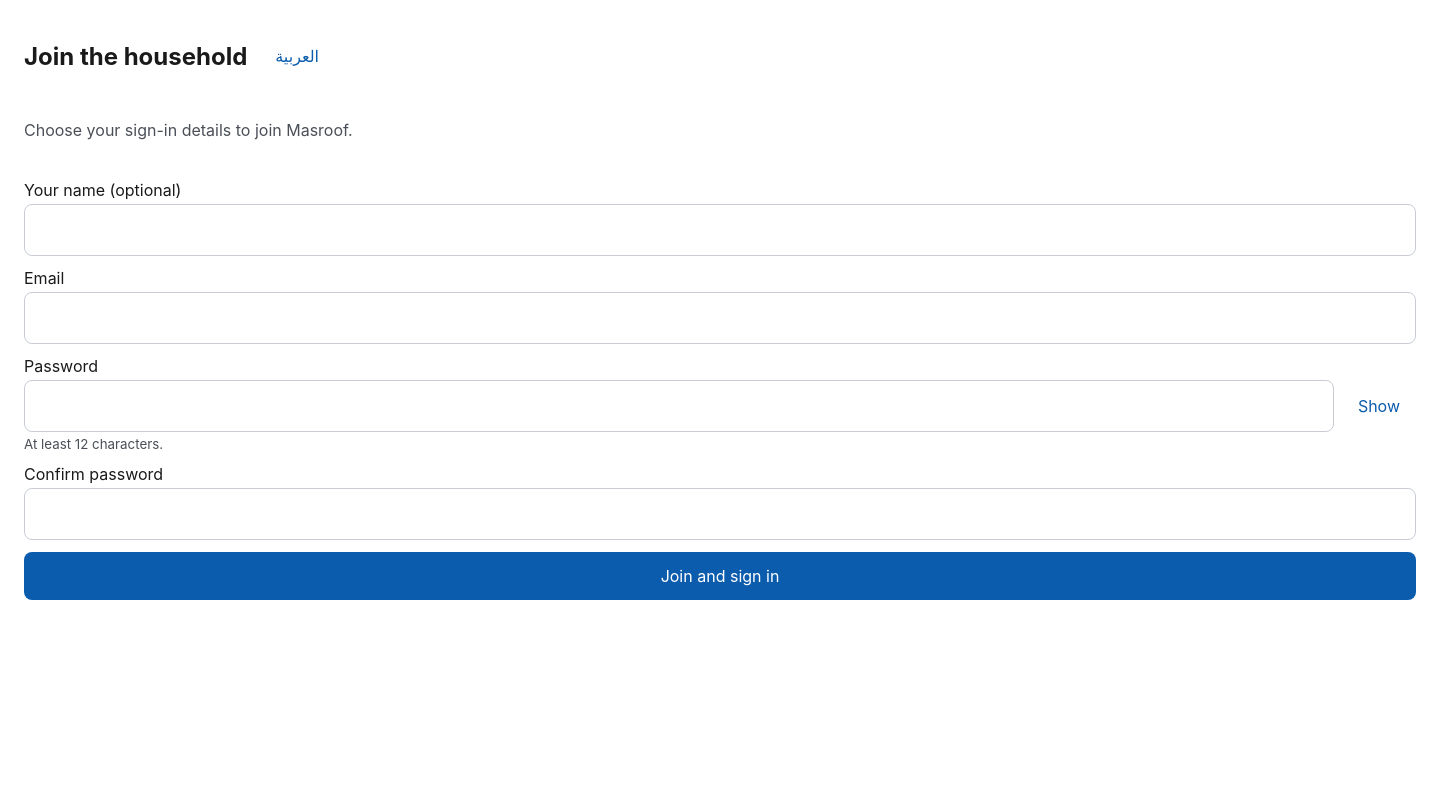
Test case: REQ-SEC-061 Accept invite page › REQ-SEC-061 a short or mismatched password never reaches the server
Type "mai@example.com" into the field labelled "Email". click: (720, 318)
box: [24,292,1416,344]
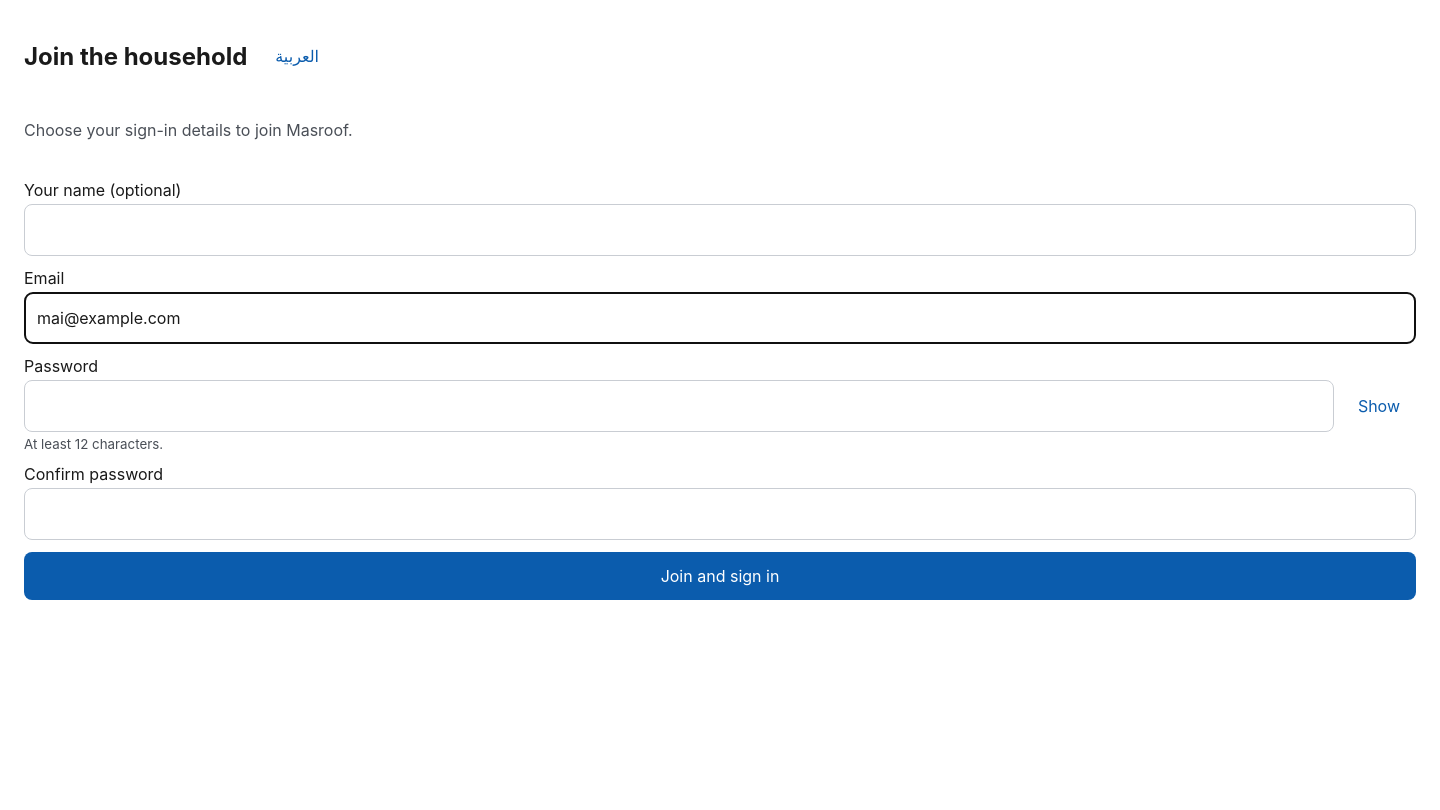
Type "short" into the password field labelled "Password". click: (679, 406)
box: [24,380,1334,432]
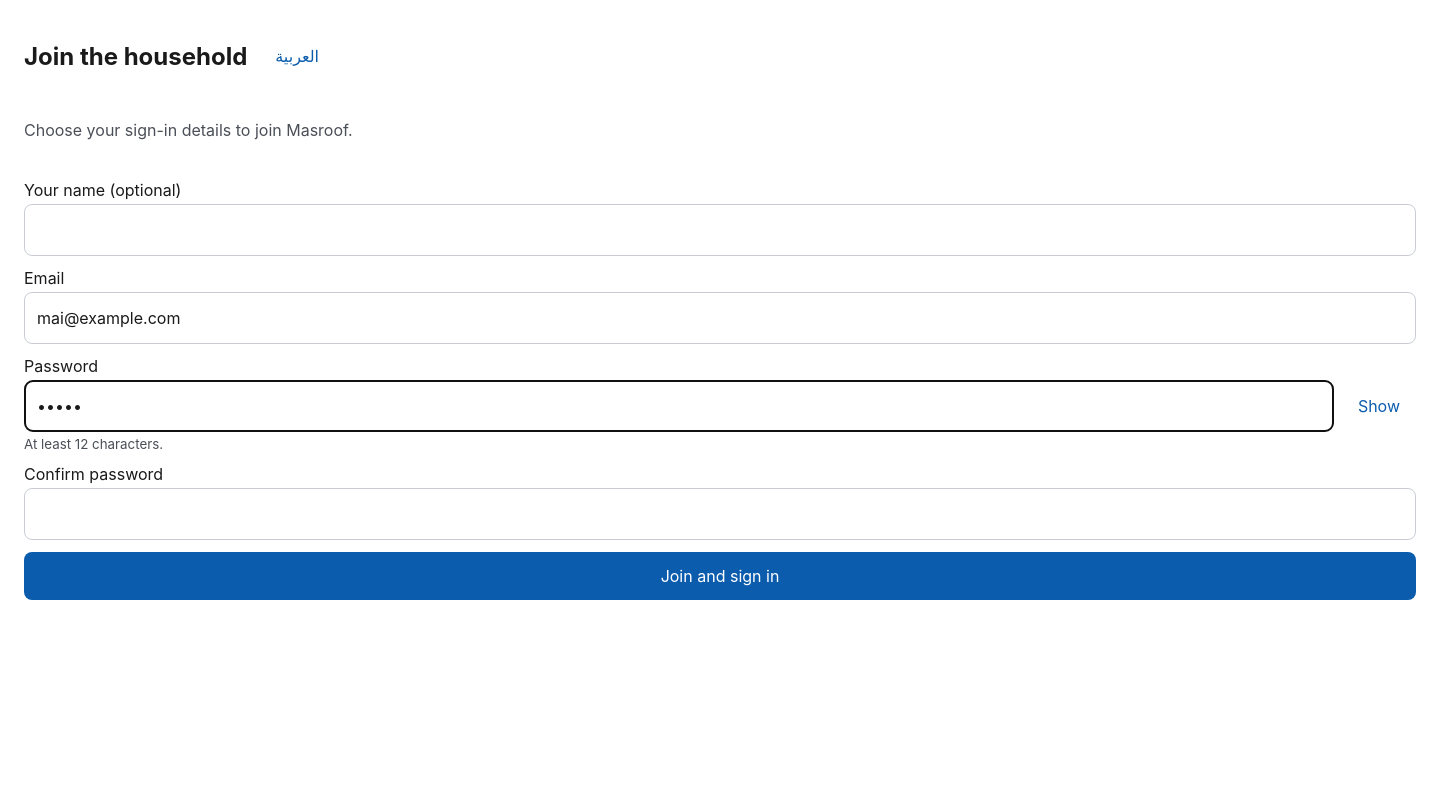
Type "short" into the password field labelled "Confirm password". click: (720, 514)
box: [24,488,1416,540]
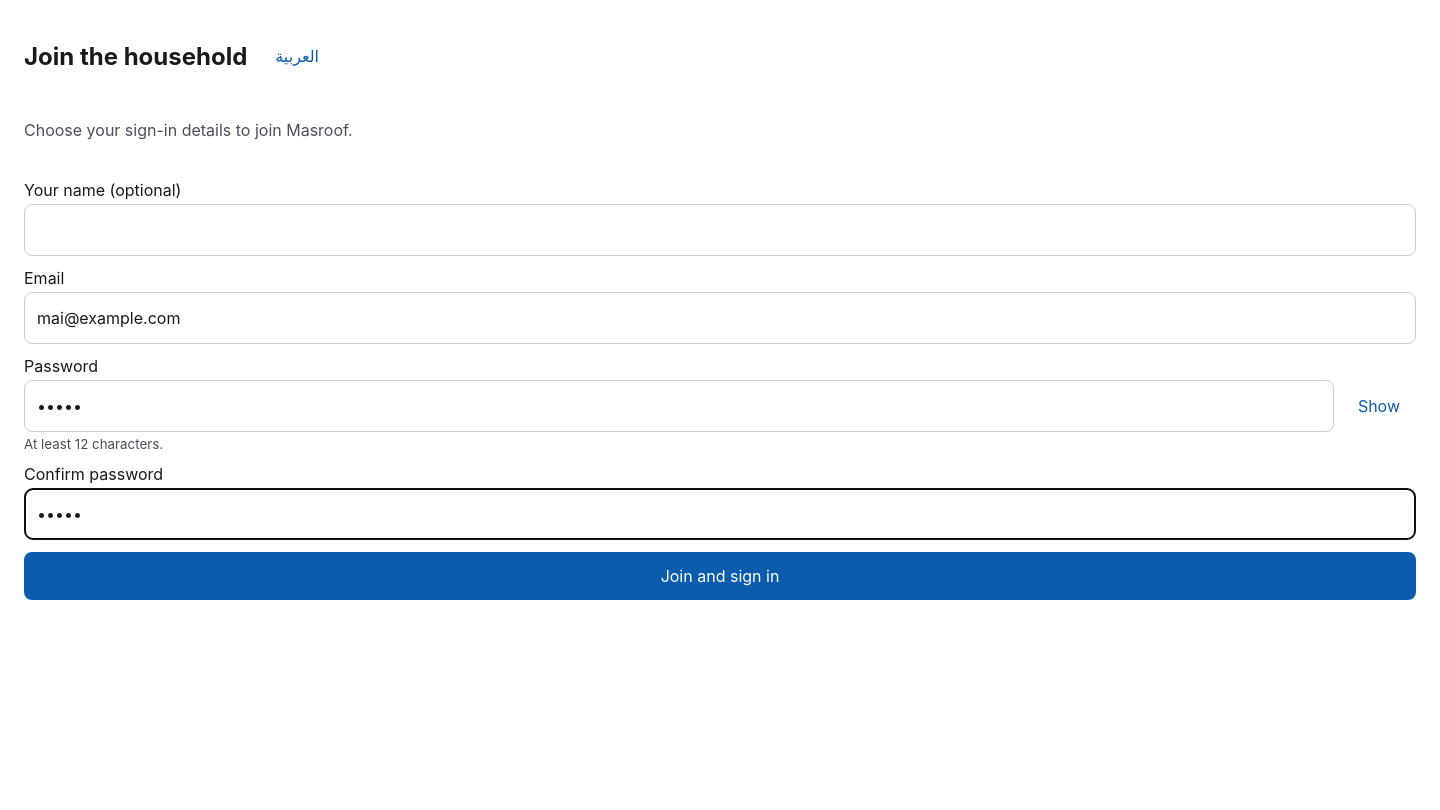
Click the button "Join and sign in". click: (720, 576)
box: [24,552,1416,600]
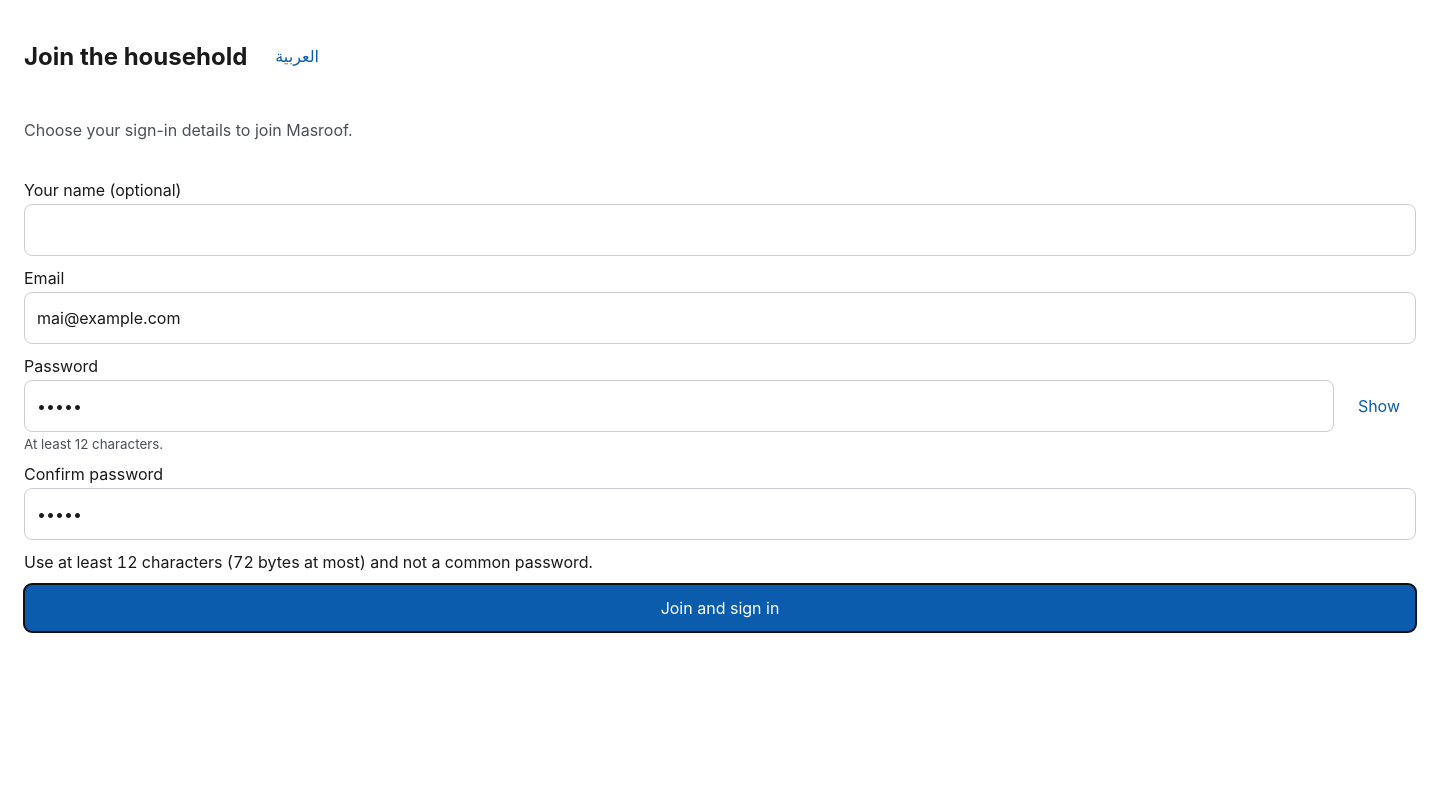
Result: the message shows "at least 12 characters" at [24,552,593,572]
Type "a long enough pass" into the password field labelled "Password". click: (679, 406)
box: [24,380,1334,432]
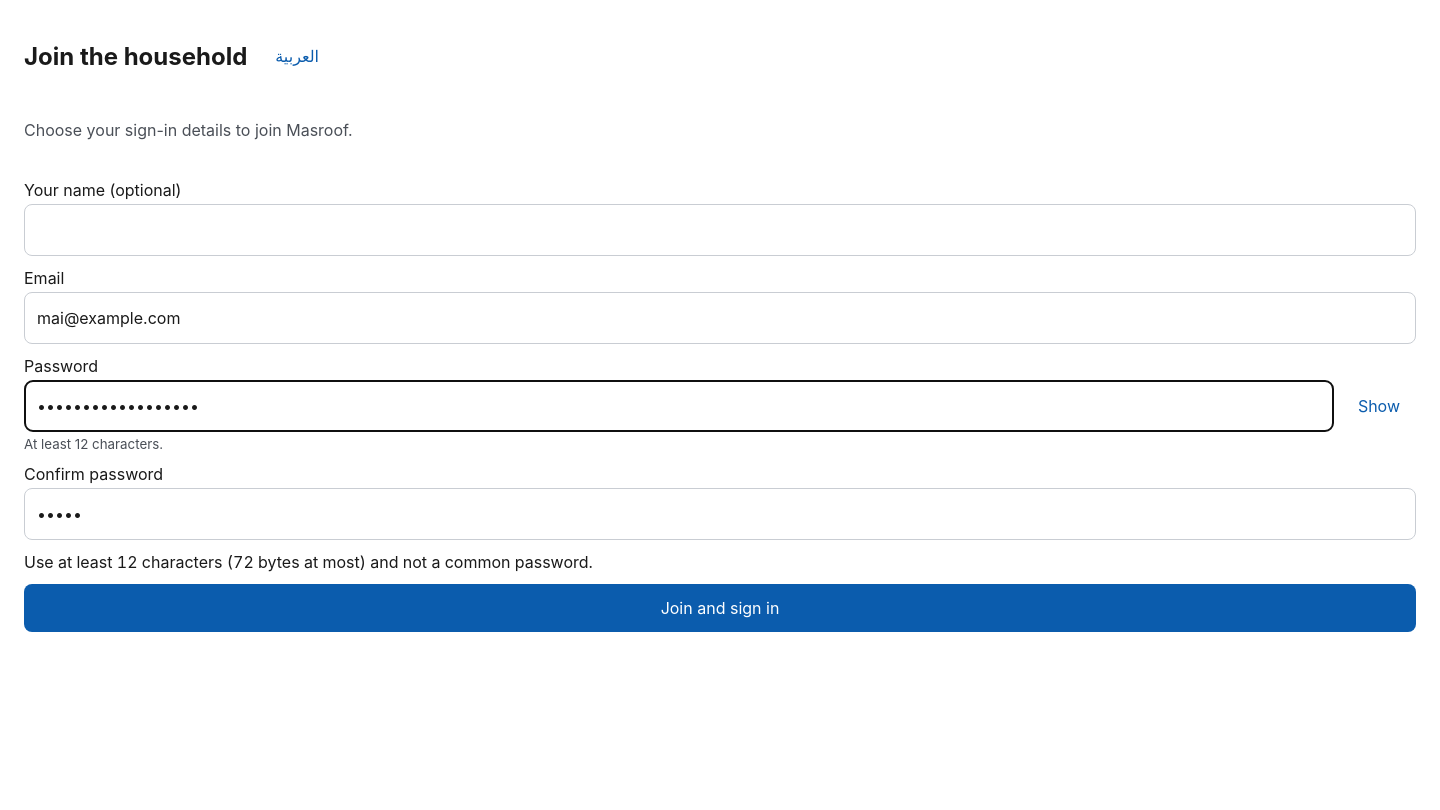
Click the button "Join and sign in". click: (720, 608)
box: [24,584,1416,632]
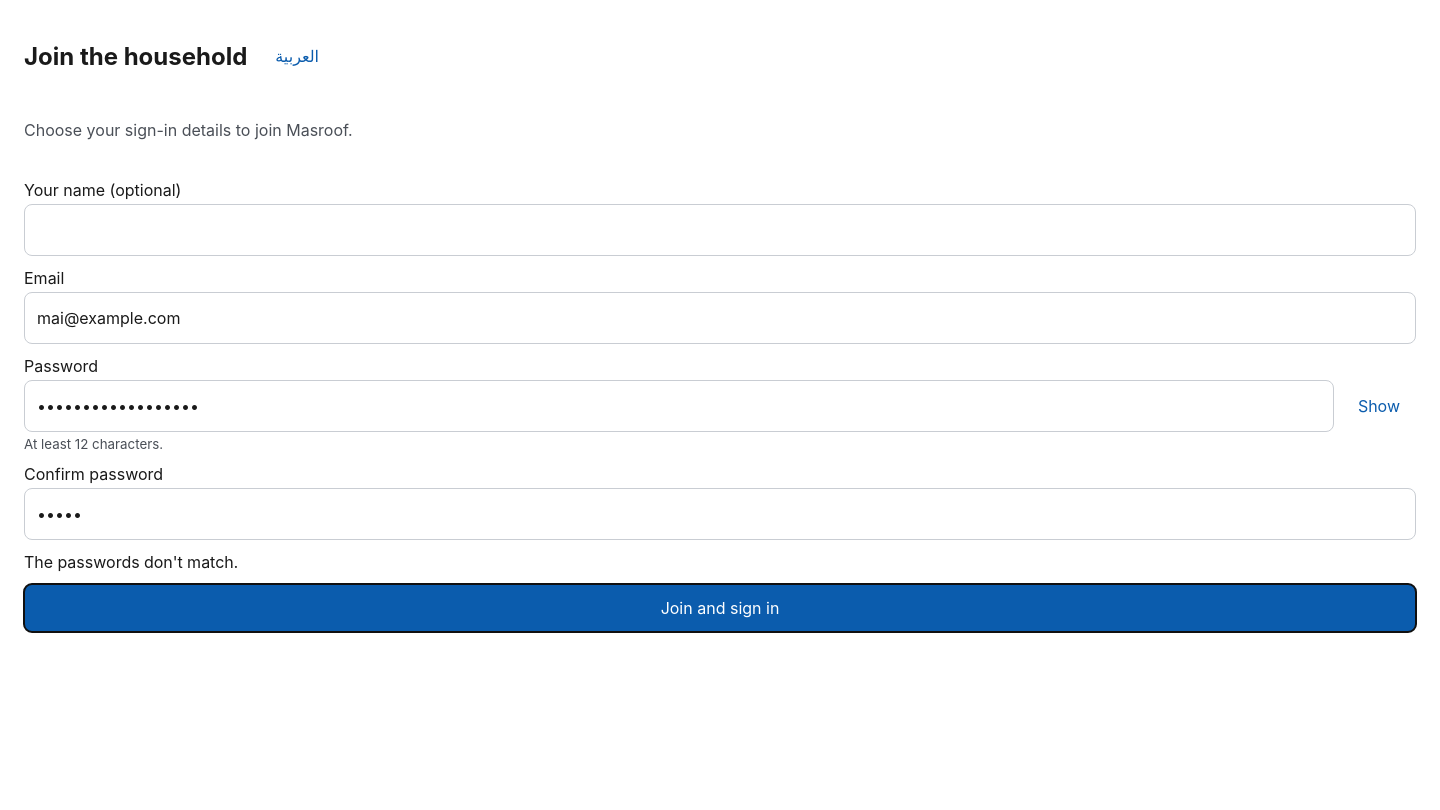
Result: the message shows "passwords don't match" at [24,552,238,572]
